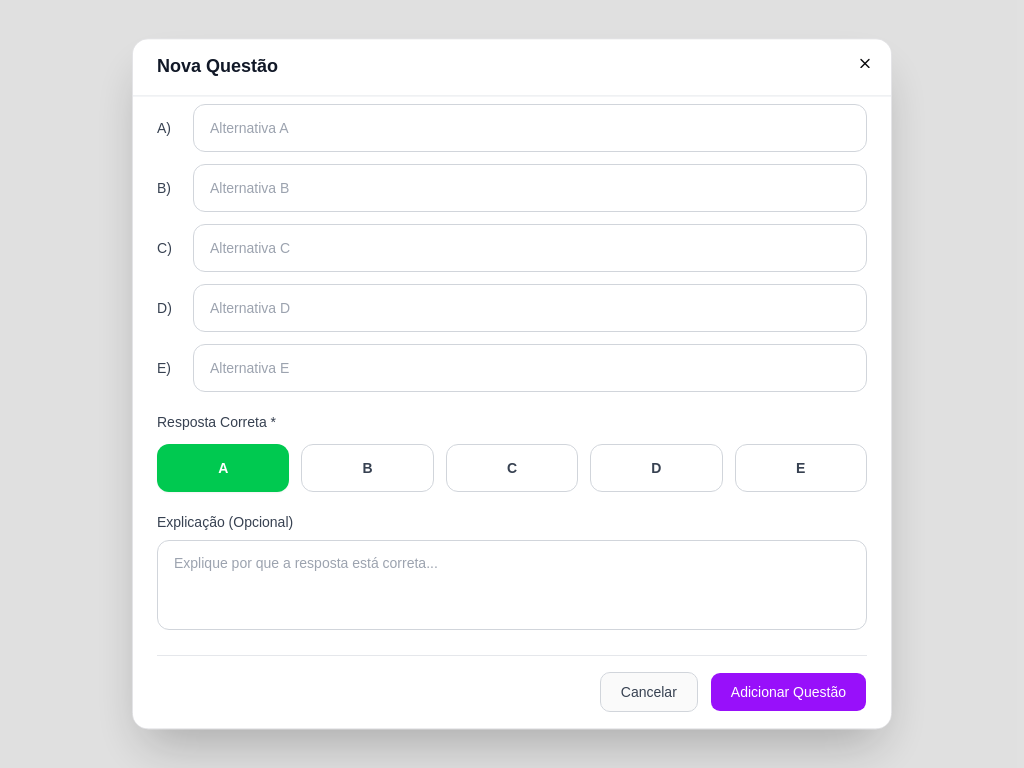
QuestionFormSheet › deve exigir ordem quando requireOrder está ativo
This screenshot has width=1024, height=768.
(page scrolled)
Expected: the text "Carregando matérias..." is not shown
What coordinates should you click on to do the following:
click the button "Adicionar Questão"
I would click on:
 (788, 692)
Its box is left=710, top=672, right=867, bottom=712.
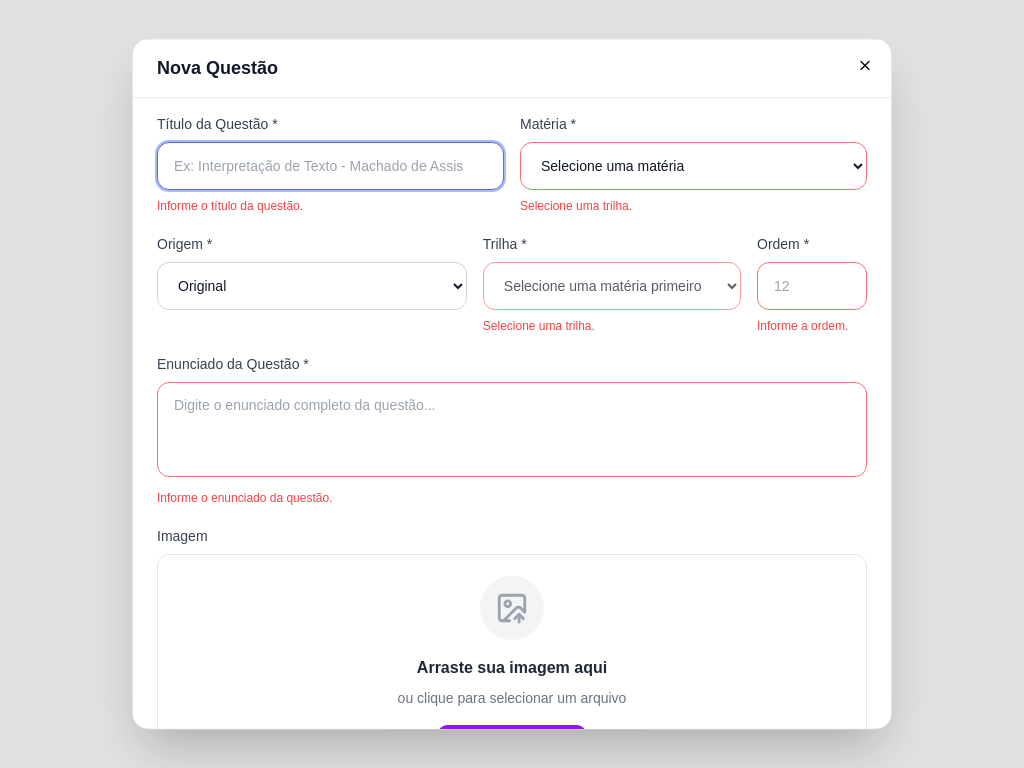
Now the text "Informe a ordem." is shown, box left=757, top=319, right=848, bottom=333
